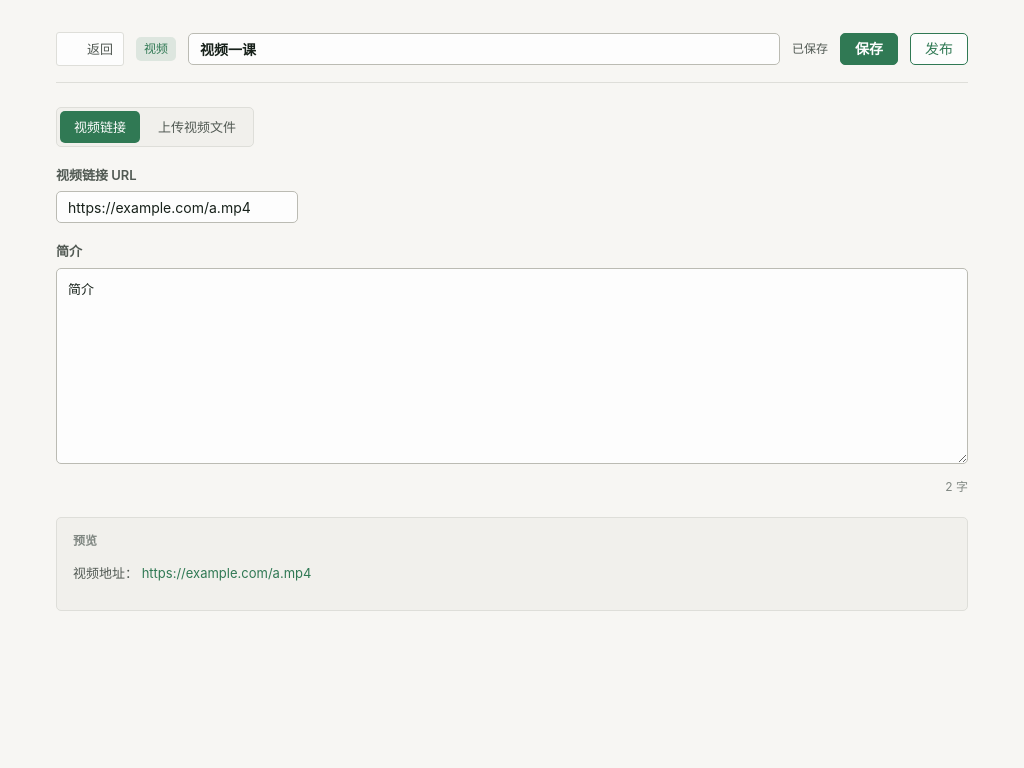
Scenario: LessonVideoEditor 发布/转为草稿 › 草稿课时显示「发布」，点击提交内容+status 并 toast
This screenshot has width=1024, height=768.
Click the button "发布".
click(939, 49)  # box [910,33,968,65]
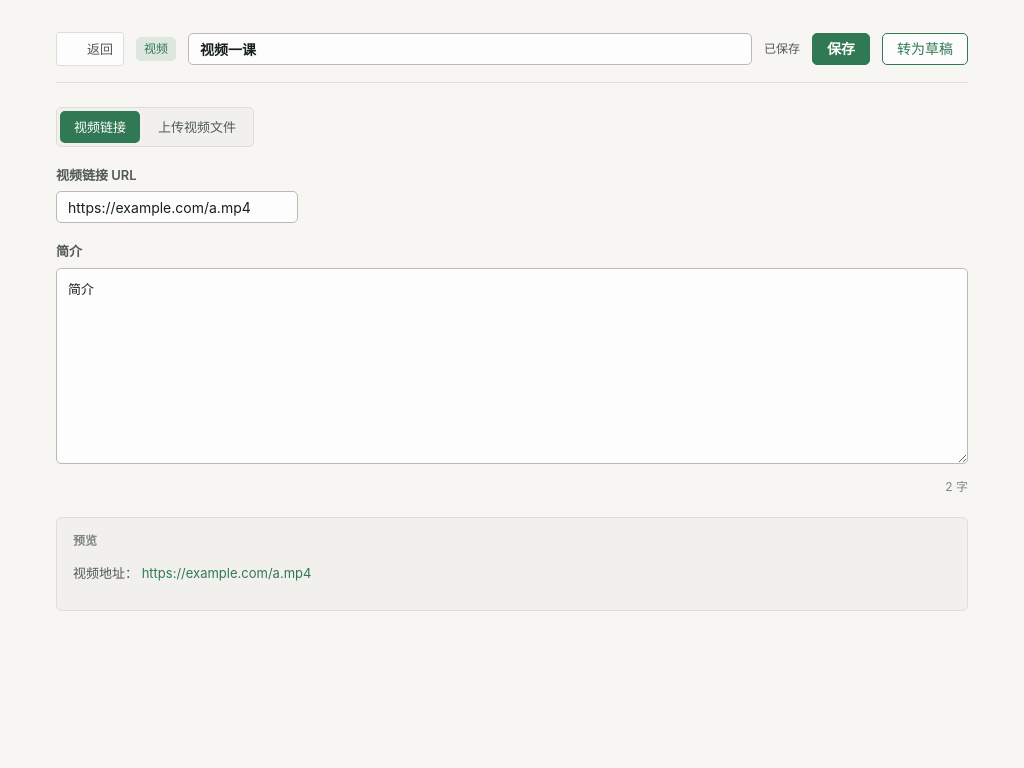
Check: the button "转为草稿" is shown, box [882,33,968,65]
